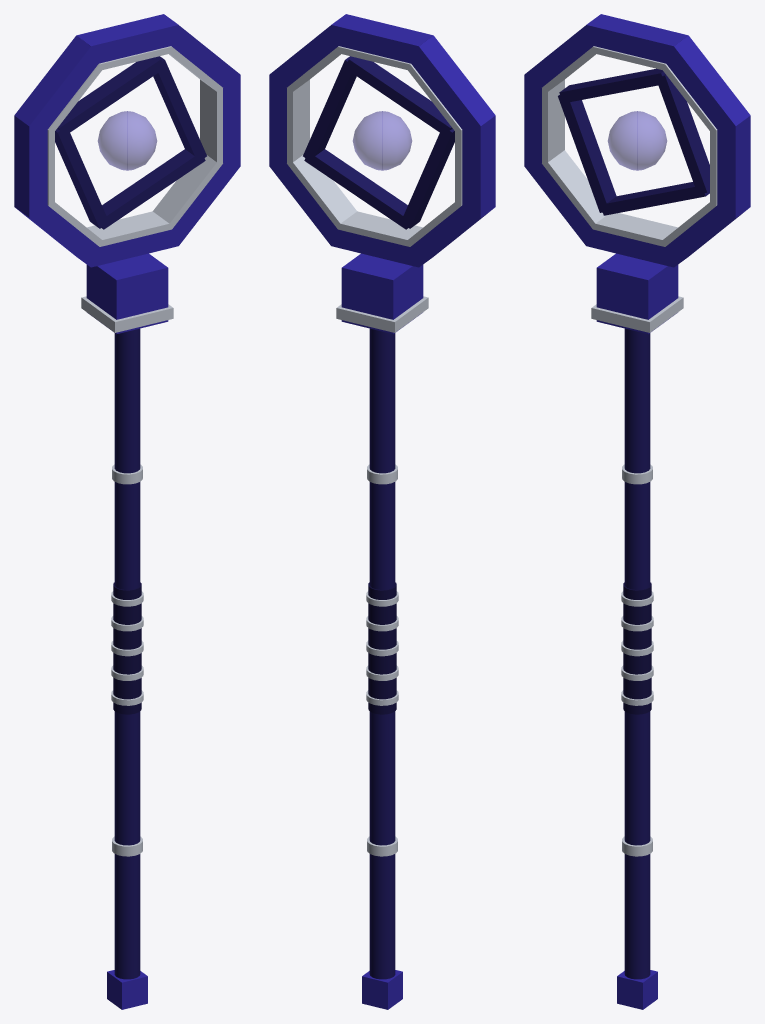
3 views of the same model, side by side, from view 1: azimuth 30°, elevation 25°; view 2: azimuth 150°, elevation 25°; view 3: azimuth 330°, elevation 25° (orthographic).
Parts seen in each view (by area): view 1: riftgate-staff; view 2: riftgate-staff; view 3: riftgate-staff.
Part boxes in pixels (left/top/right/bottom): riftgate-staff: left=14, top=14, right=240, bottom=1009; riftgate-staff: left=269, top=14, right=495, bottom=1009; riftgate-staff: left=524, top=14, right=750, bottom=1009.
Size of the model in its own units: 0.3499 by 1.53 by 0.0966.
